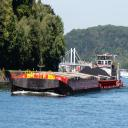tugboat: (93, 54, 125, 89)
